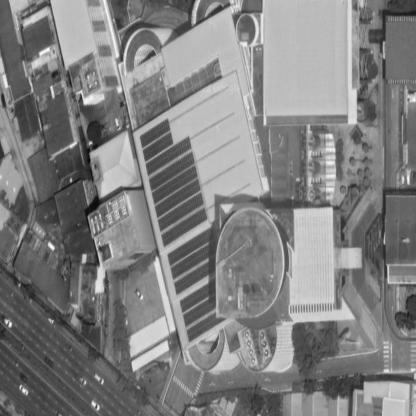solar-pv-panel: (139, 118, 208, 247), (167, 226, 217, 295), (180, 280, 226, 342)
